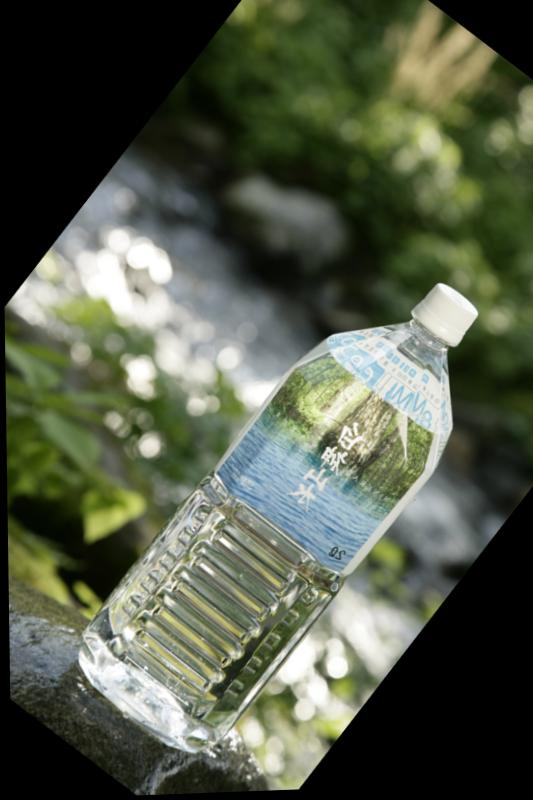plastic: (11, 284, 532, 799)
